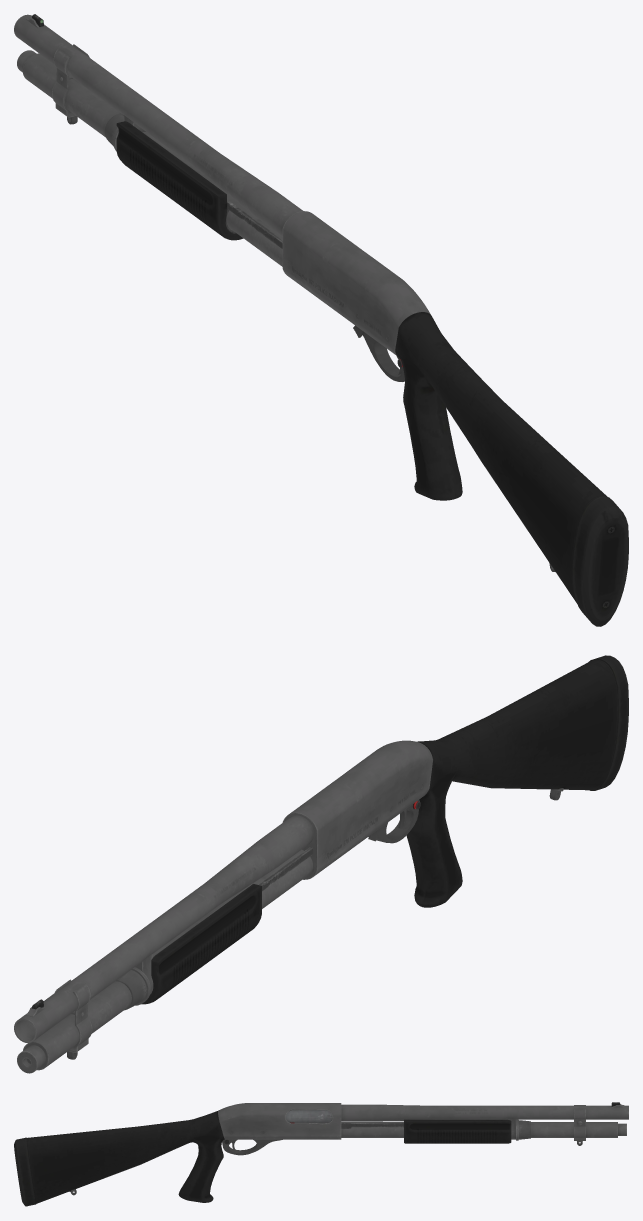
File: shotgun.glb
3 renders of one model, top to bottom at view 1: azimuth 30°, elevation 25°; view 2: azimuth 150°, elevation 25°; view 3: azimuth 270°, elevation 25°, orthographic. The views are drawn at different scales.
Parts seen in each view (by area): view 1: Receiver, Pump; view 2: Receiver, Pump; view 3: Receiver, Pump, Bolt.
Part boxes in pixels (box(x1,y1,x2,y2)): Receiver: box(14, 14, 628, 626); Pump: box(104, 113, 282, 248); Receiver: box(14, 655, 628, 1073); Pump: box(116, 847, 312, 1010); Receiver: box(14, 1102, 628, 1206); Pump: box(309, 1117, 530, 1143); Bolt: box(285, 1110, 332, 1122).
Bounding box in the file's own units: 0.046 × 0.1934 × 1.04.
2 materials, 2 textured.
